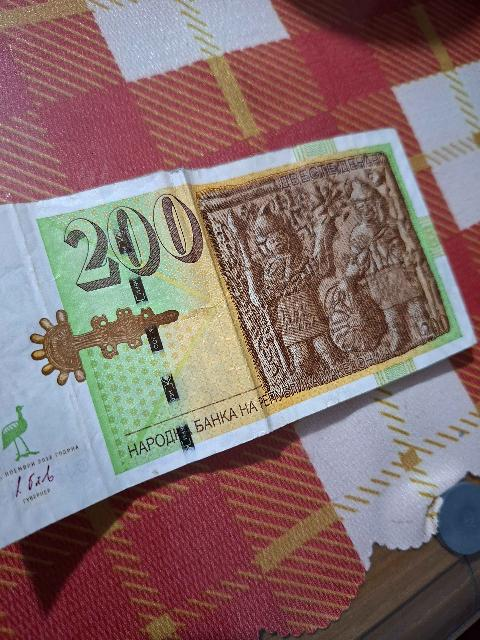note: (0, 131, 474, 517)
